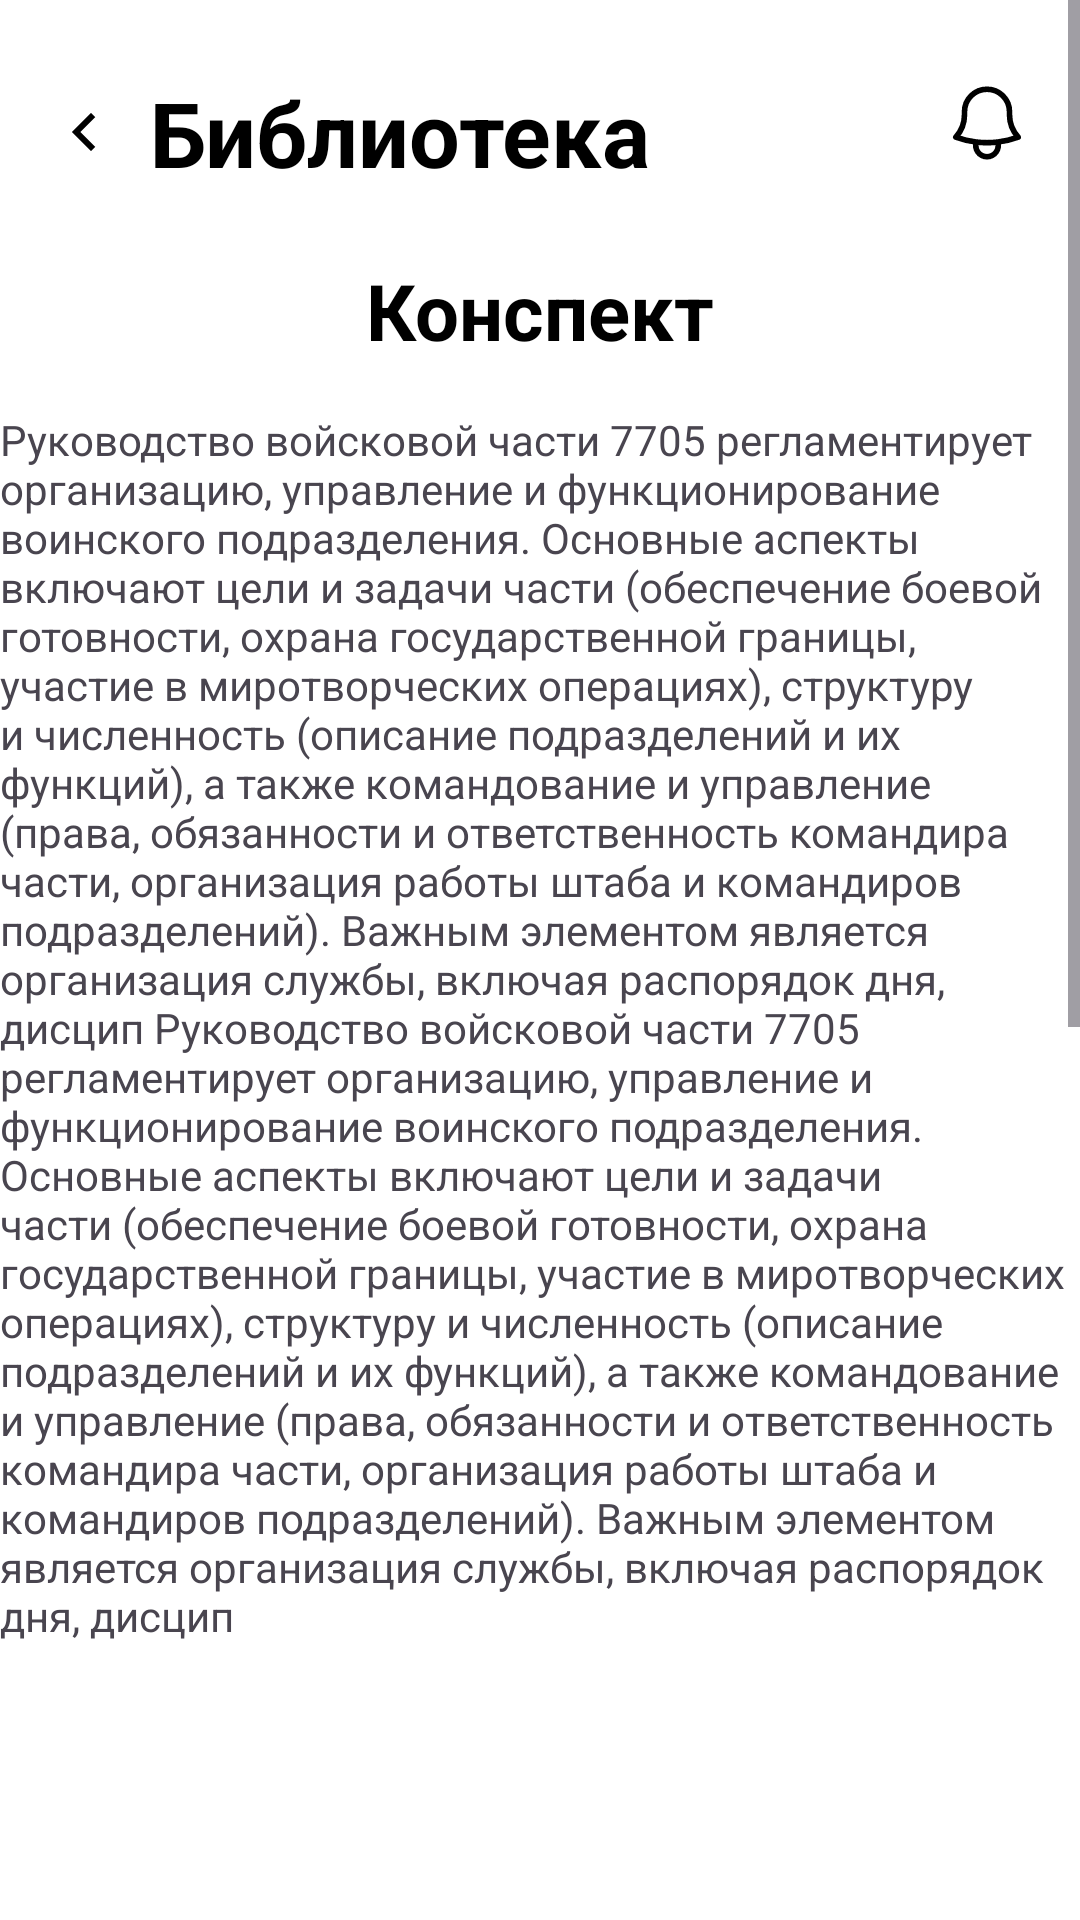

Icon bounding boxes for this 1080x1920 phone screenshot, format (x1, y1, x2, y2):
arrow left: (72, 113, 95, 151)
bell: (953, 86, 1021, 160)
